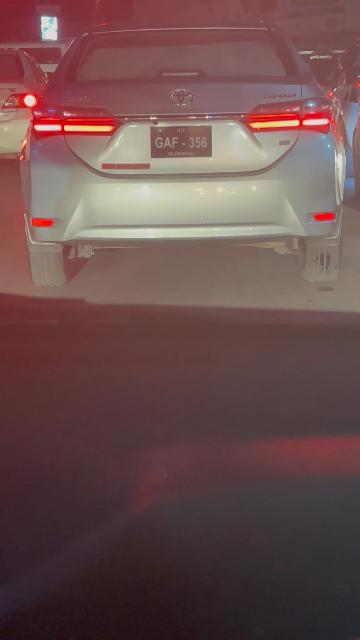plate: (268, 295, 333, 334), (150, 125, 213, 159)
